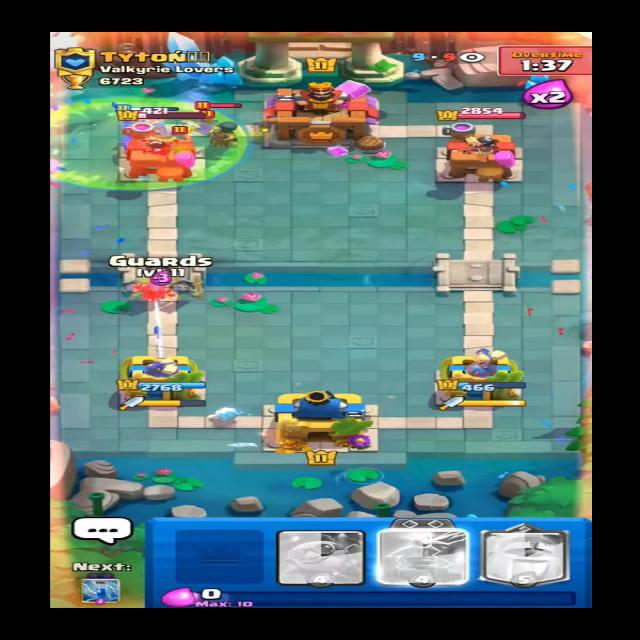bats: (167, 124, 194, 141)
evo-wizard: (125, 265, 201, 310)
night-witch: (198, 101, 249, 152)
